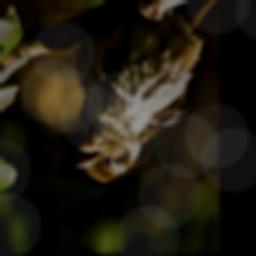Sparrow: (73, 8, 202, 183)
